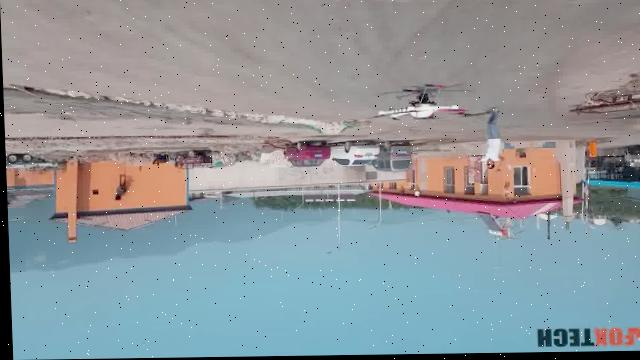drone: (375, 86, 469, 125)
